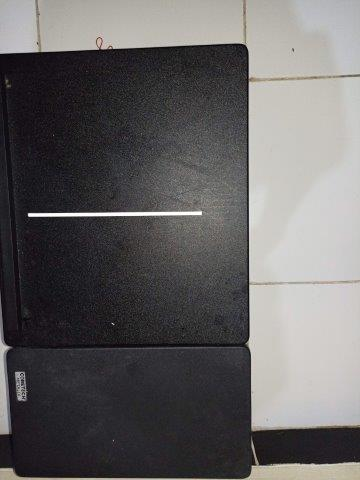karet: (95, 36, 113, 50)
sedotan: (28, 211, 202, 217)
